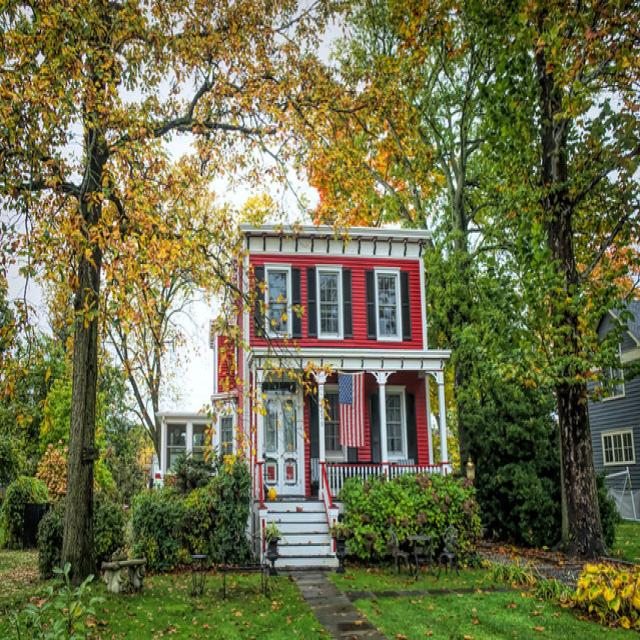Normal_building: (148, 221, 453, 573)
